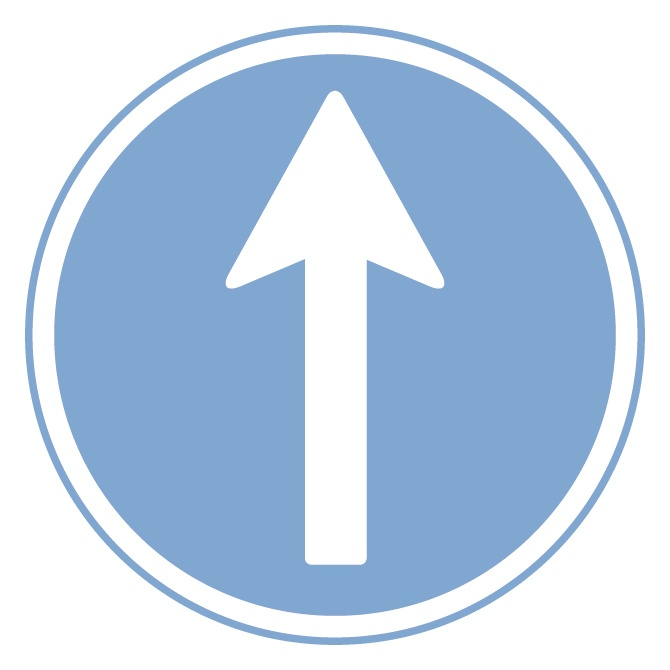Direction_sign: (27, 11, 664, 653)
